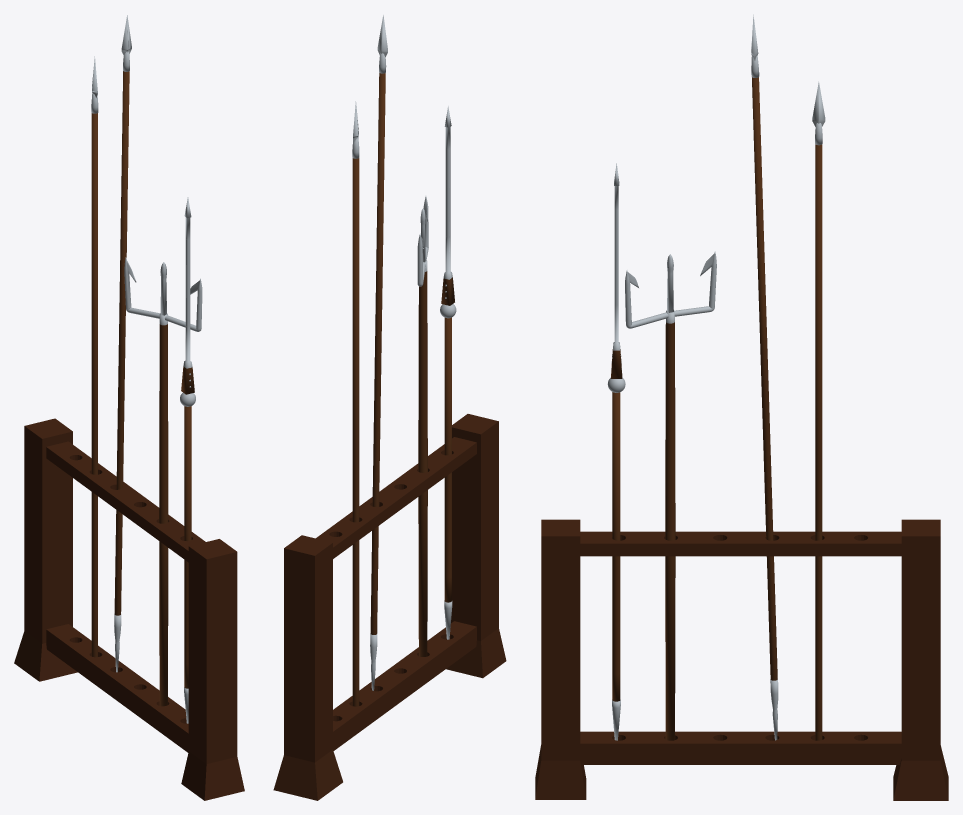
File: Speer Ständer Ver 2.fbx
3 renders of one model, left to right at view 1: azimuth 30°, elevation 25°; view 2: azimuth 150°, elevation 25°; view 3: azimuth 270°, elevation 25°, orthographic. The views are drawn at different scales.
Visible parts, largest first — view 1: Speer Ständer Ver 2; view 2: Speer Ständer Ver 2; view 3: Speer Ständer Ver 2.
Boxes of the visible parts, x1=… form: Speer Ständer Ver 2: x1=14, y1=15, x2=244, y2=800; Speer Ständer Ver 2: x1=273, y1=15, x2=506, y2=800; Speer Ständer Ver 2: x1=535, y1=14, x2=948, y2=800.
Bounding box in the file's own units: 16.86 × 260 × 126.
